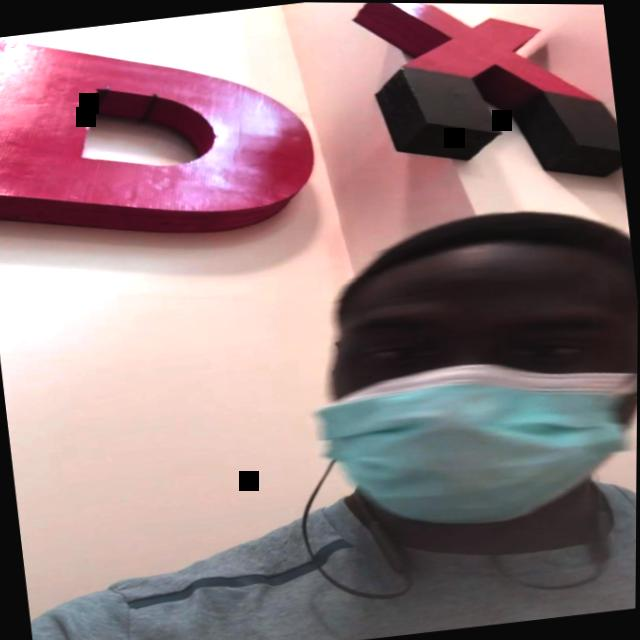Mask: (299, 243, 639, 543)
